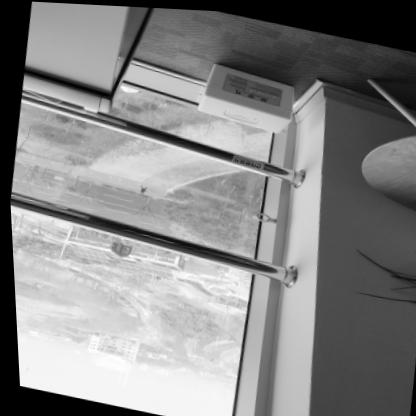DDL: (189, 56, 297, 132)
